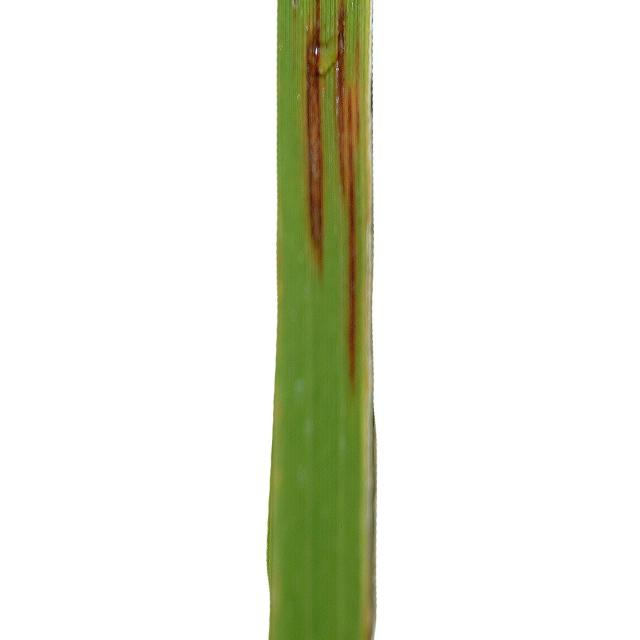Narrow brown: (232, 0, 473, 640)
